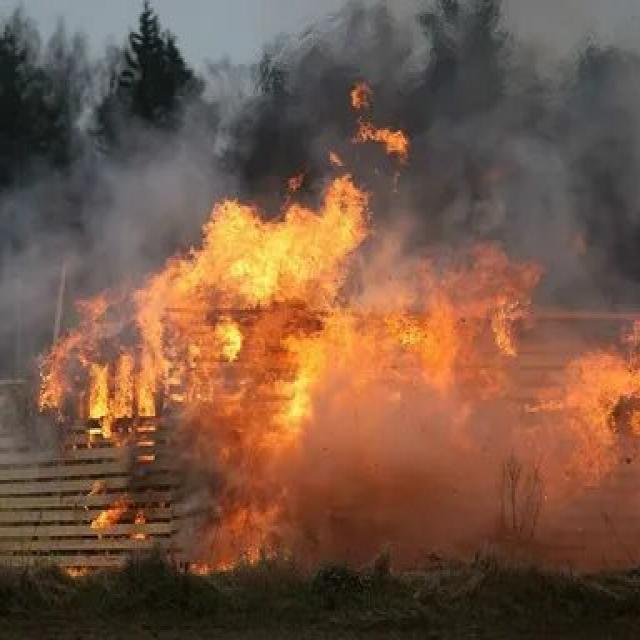Fire: (26, 166, 640, 597)
Smoke: (425, 3, 640, 234)
